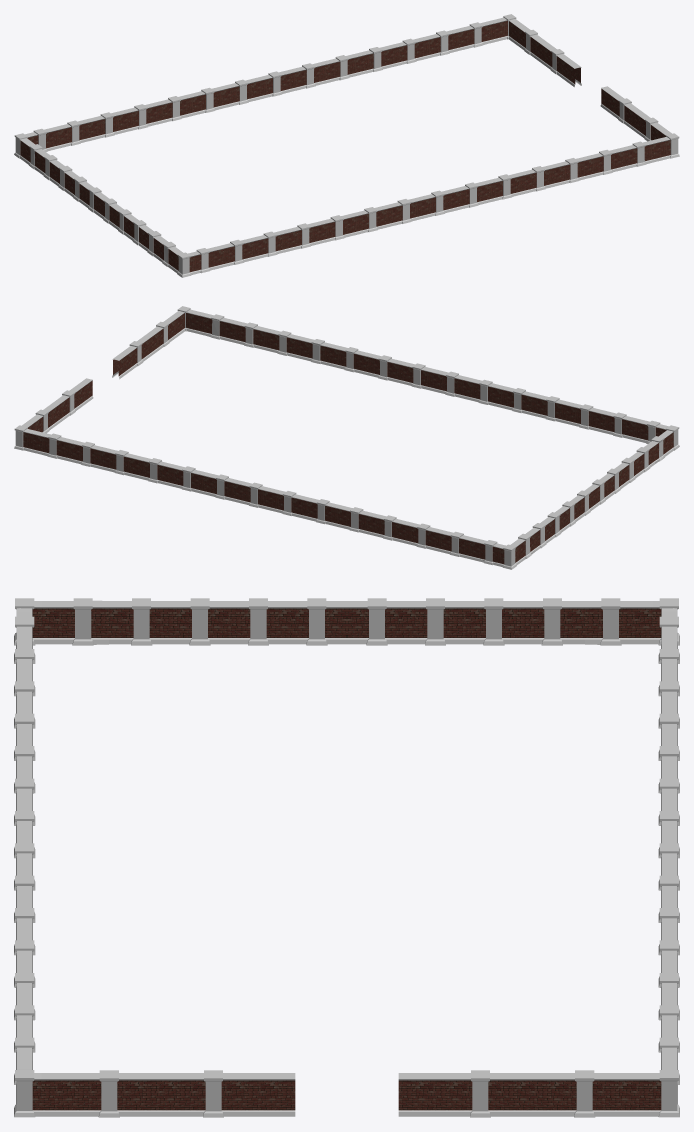
The model's file is cemetary_walls.FBX.
3 renders of one model, top to bottom at view 1: azimuth 30°, elevation 25°; view 2: azimuth 150°, elevation 25°; view 3: azimuth 270°, elevation 25°, orthographic. The views are drawn at different scales.
Visible parts, largest first — view 1: wall_corner001; view 2: wall_corner001; view 3: wall_corner001.
Boxes of the visible parts, x1,y1,x2,y2 form: wall_corner001: (14,14,679,277); wall_corner001: (14,306,679,569); wall_corner001: (14,598,679,1117).
Size of the model in its own units: 726 by 27.93 by 425.
